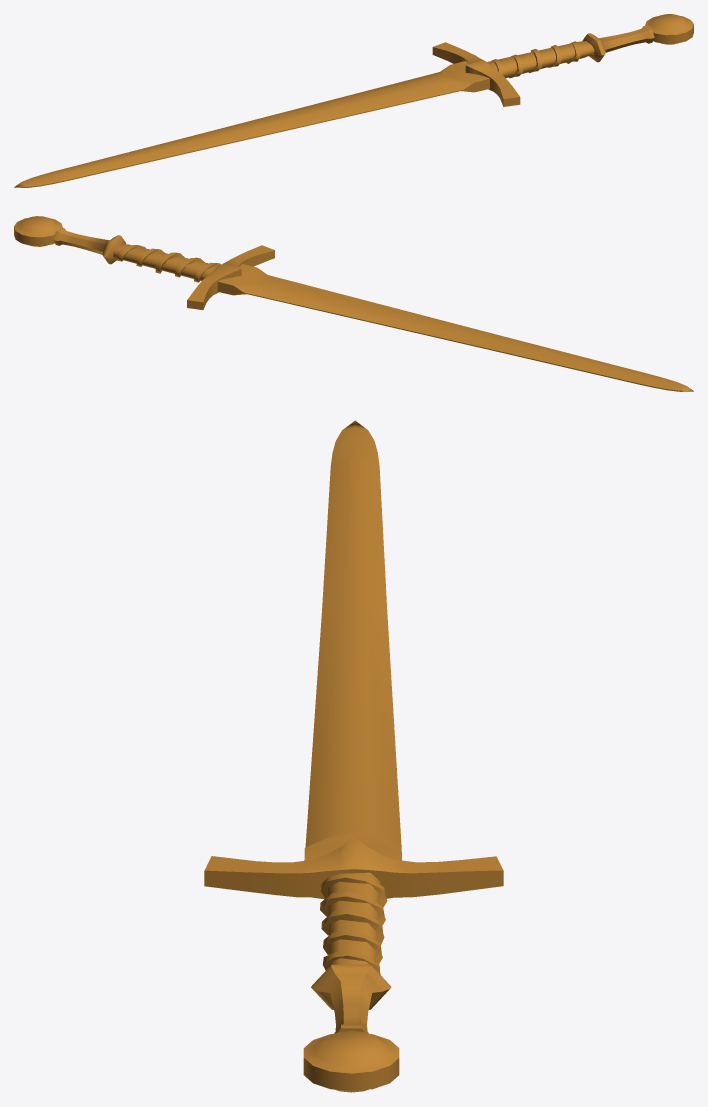
The model's file is sword.fbx.
3 views of the same model, one above another, from view 1: azimuth 30°, elevation 25°; view 2: azimuth 150°, elevation 25°; view 3: azimuth 270°, elevation 25° (orthographic). The views are drawn at different scales.
Visible parts, largest first — view 1: Low; view 2: Low; view 3: Low.
Boxes of the visible parts, bbox=[...] form: Low: bbox=[14, 14, 693, 187]; Low: bbox=[14, 216, 693, 391]; Low: bbox=[204, 420, 503, 1092].
Size of the model in its own units: 200 by 7.05 by 38.32.
